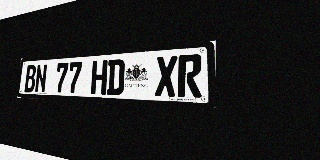7: (67, 62, 82, 94), (54, 63, 69, 94)
B: (24, 65, 36, 93)
D: (106, 59, 125, 95)
H: (91, 60, 108, 95)
N: (34, 64, 47, 93)
R: (177, 54, 202, 98)
X: (155, 55, 177, 97)
